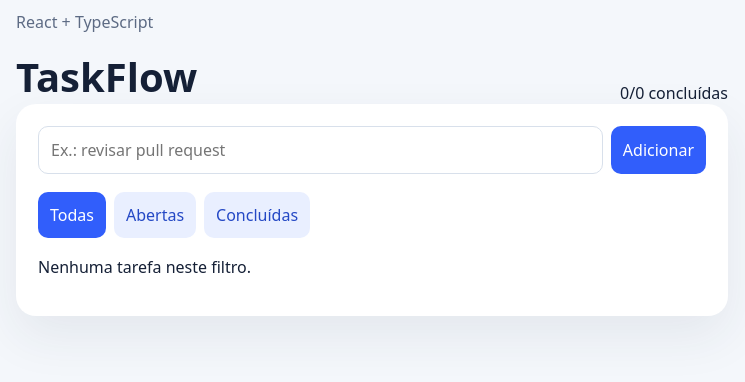
Test case: TaskFlow interface › removes a task using its accessible action name
Type "Remover depois" into the field named "Nova tarefa". click: (320, 150)
box: top-left (38, 126), bottom-right (603, 174)
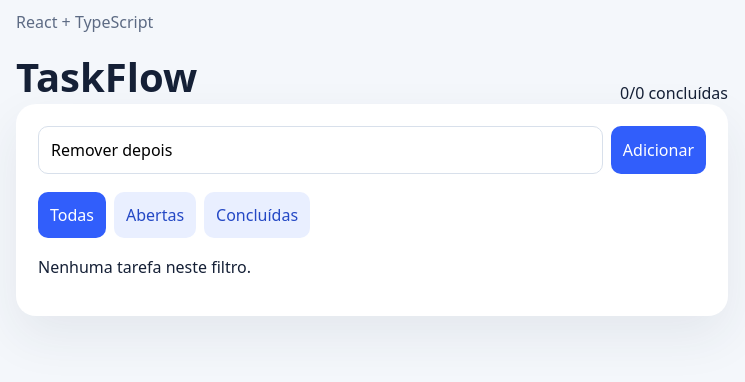
Click the button "Adicionar". click: (658, 150)
box: top-left (611, 126), bottom-right (706, 174)
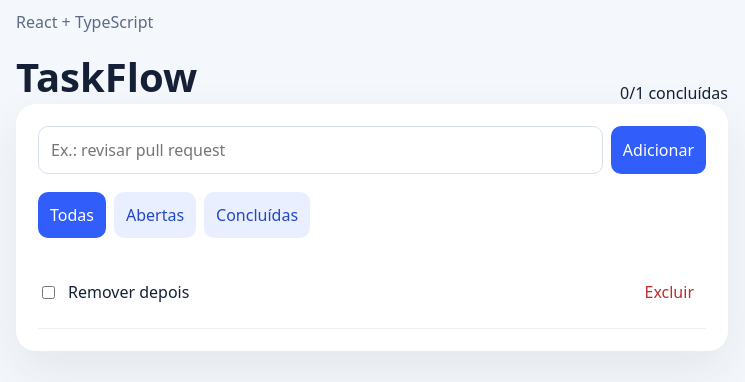
Click the button with aria-label "Excluir tarefa: Remover depois". click: (669, 292)
box: top-left (632, 269), bottom-right (706, 315)
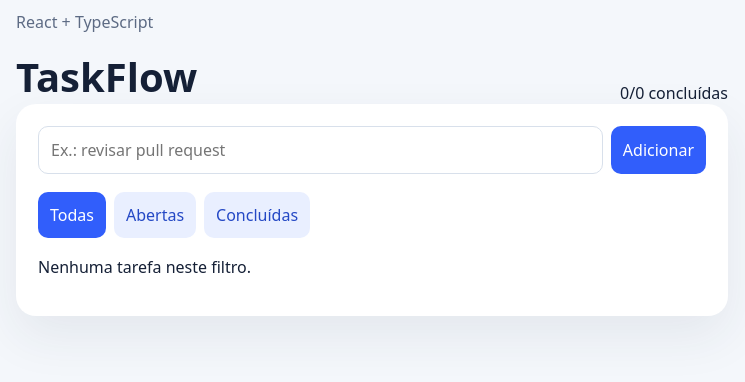
Check: the text "Remover depois" is gone
Check: the text "0/0 concluídas" is shown, box top-left (620, 82), bottom-right (728, 104)
